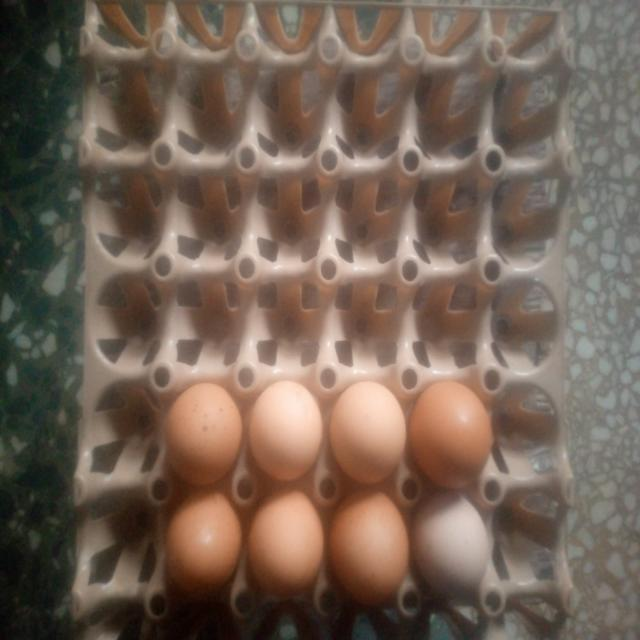Eggs: (412, 376, 496, 502), (332, 495, 414, 606), (161, 382, 243, 489), (250, 376, 326, 490), (162, 499, 246, 599), (249, 498, 327, 602), (334, 376, 404, 490), (418, 504, 492, 608)
